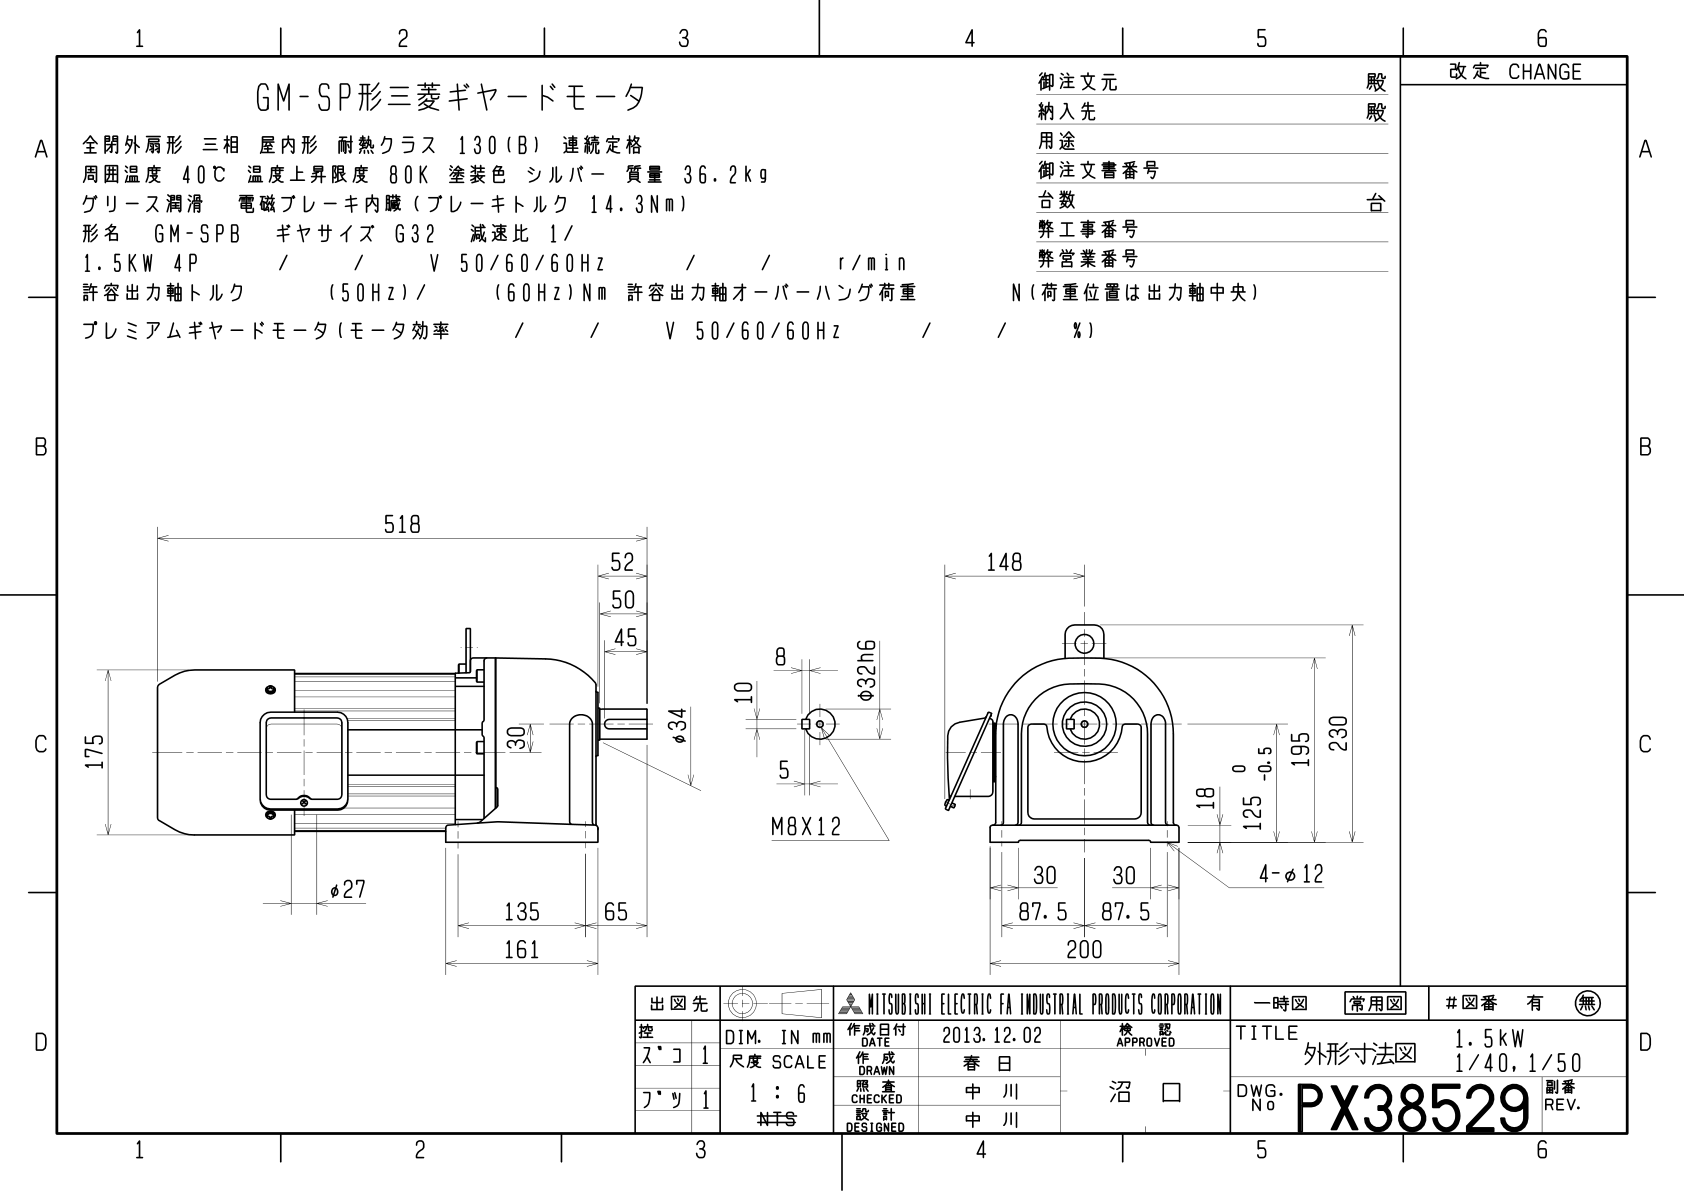GM_SP_屋内_三相_脚: (64, 470, 1386, 973)
